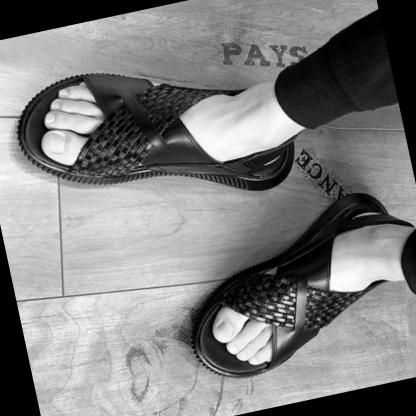ankle: (253, 148, 268, 163), (372, 225, 381, 235)
heel: (274, 156, 290, 168), (359, 199, 371, 210)
left_foot: (168, 190, 416, 389)
pinky: (79, 76, 94, 87), (273, 351, 284, 361)
right_foot: (4, 33, 303, 240)
toe: (220, 323, 231, 335), (53, 139, 64, 151)
